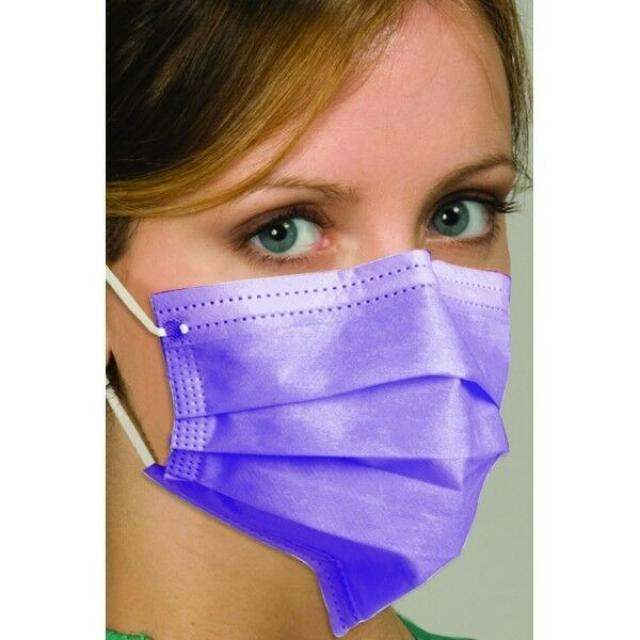1_mascarilla: (115, 254, 514, 634)
